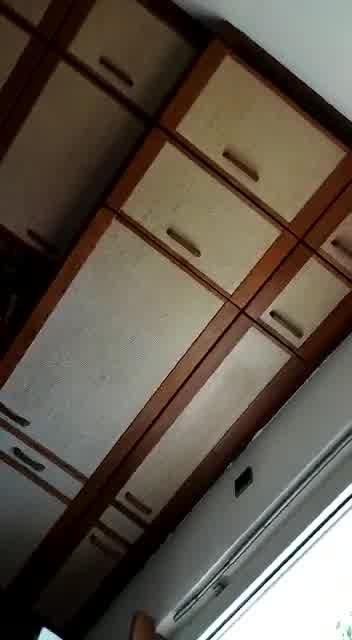cabinet_door: (41, 271, 178, 448), (0, 107, 139, 258), (138, 367, 271, 500), (138, 169, 278, 275), (193, 84, 345, 178), (59, 7, 196, 111), (258, 272, 352, 351), (75, 503, 147, 559), (3, 448, 80, 492), (320, 184, 352, 274)
handle: (20, 218, 68, 258), (256, 305, 307, 342), (8, 439, 51, 476), (222, 148, 263, 185), (165, 224, 203, 262), (97, 54, 135, 92), (0, 395, 34, 435), (120, 483, 156, 517), (93, 514, 128, 544)
